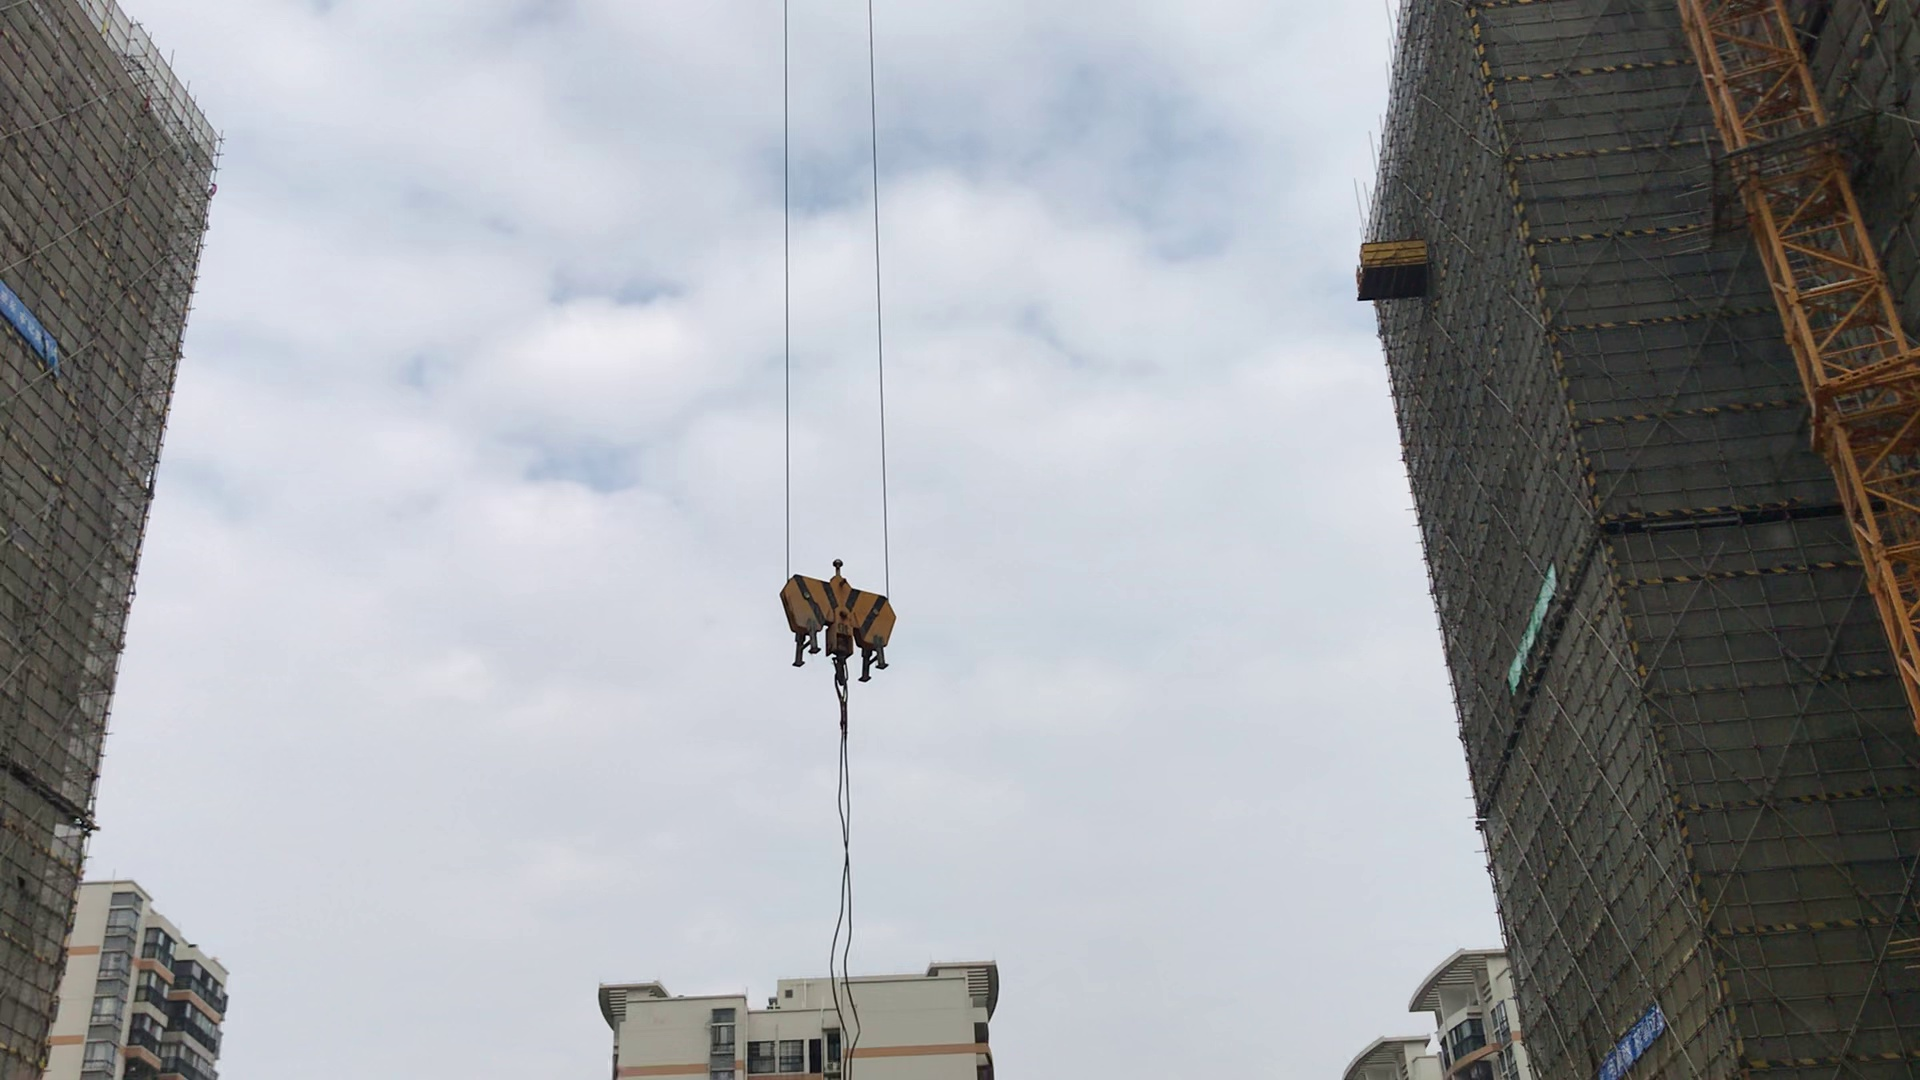hook: (782, 550, 922, 684)
slogan: (1507, 563, 1557, 700), (1, 291, 65, 382), (1597, 1013, 1664, 1080)
